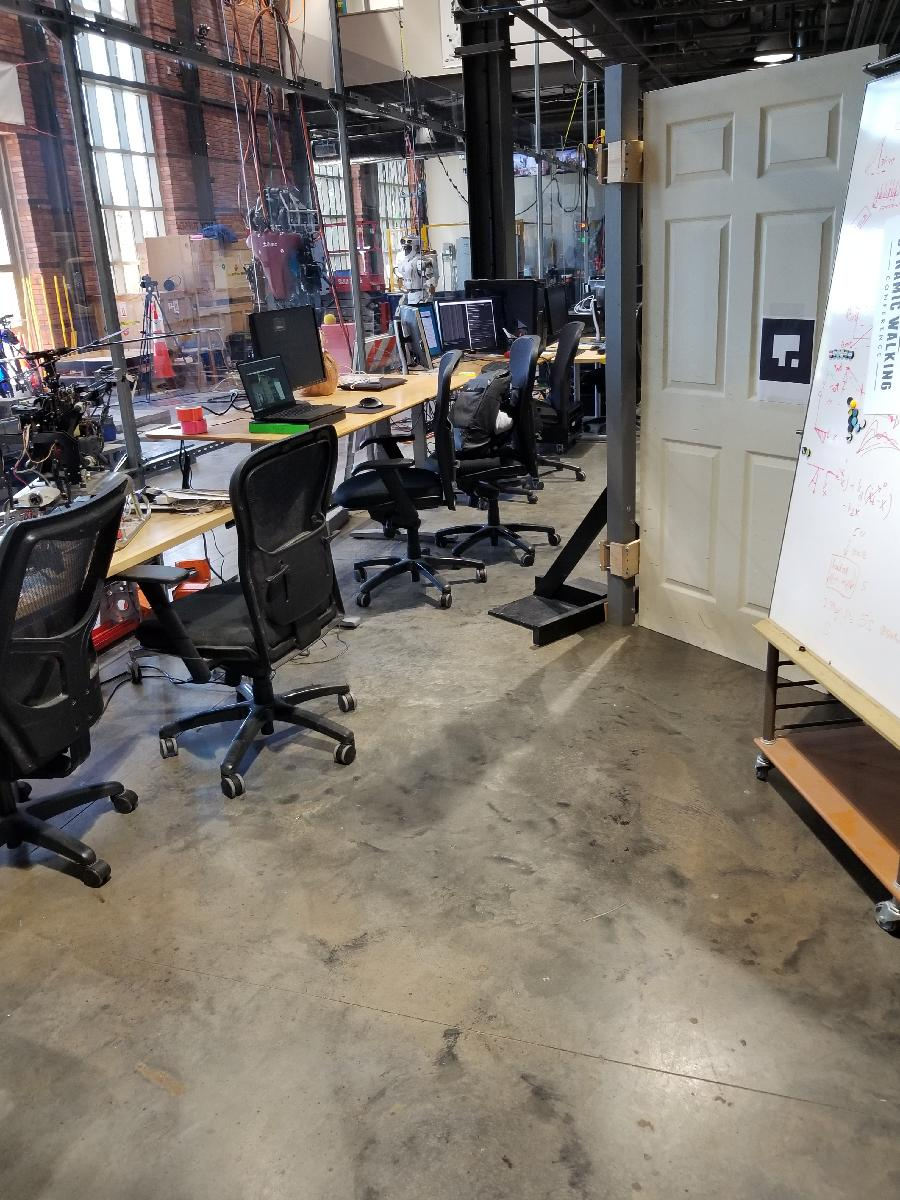door: (629, 42, 887, 709)
doorHandle: (787, 423, 858, 457)
